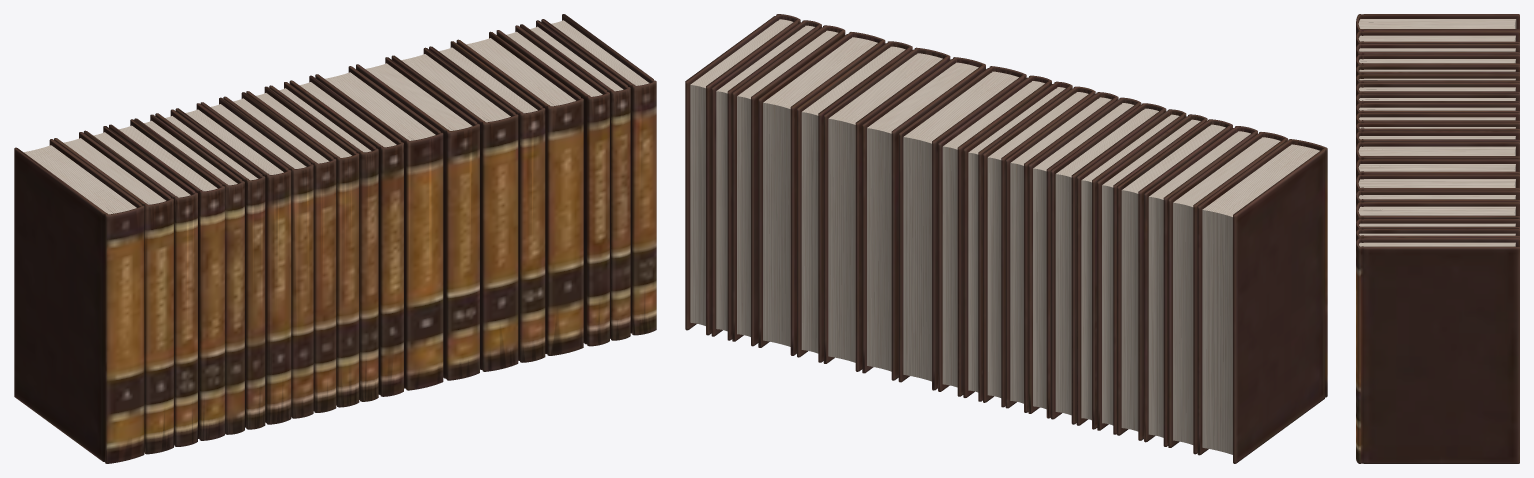
File: relic-book-encyclopedia.glb
The picture shows the model from 3 angles, left to right: view 1: azimuth 30°, elevation 25°; view 2: azimuth 150°, elevation 25°; view 3: azimuth 270°, elevation 25°; orthographic projection. The views are drawn at different scales.
Visible parts, largest first — view 1: book_encyclopedia_set_01_book01; view 2: book_encyclopedia_set_01_book01; view 3: book_encyclopedia_set_01_book01.
Boxes of the visible parts, x1,y1,x2,y2 form: book_encyclopedia_set_01_book01: [14, 14, 656, 463]; book_encyclopedia_set_01_book01: [685, 14, 1327, 463]; book_encyclopedia_set_01_book01: [1356, 14, 1519, 463].
Bounding box in the file's own units: 0.5513 × 0.2374 × 0.1631.
Materials: 2 (2 with a texture image).
